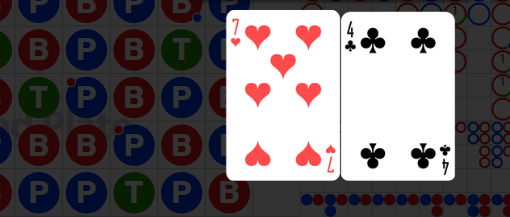4C: (437, 142, 451, 175)
7H: (323, 142, 336, 173)
